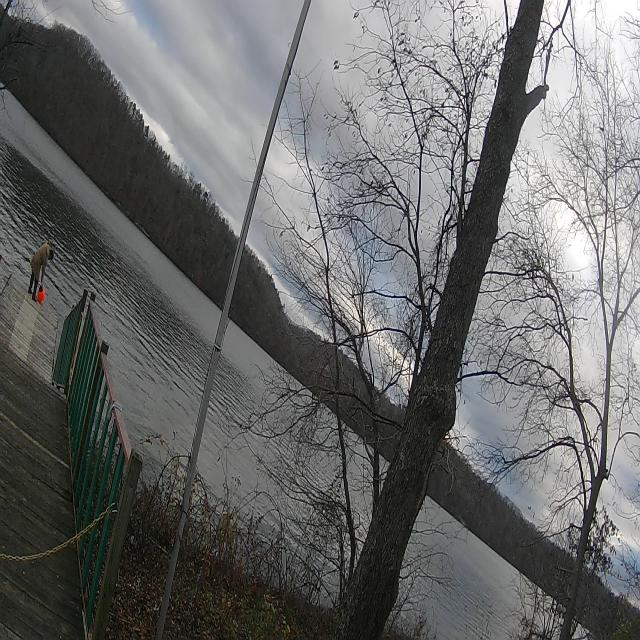Buoy: (38, 284, 46, 304)
